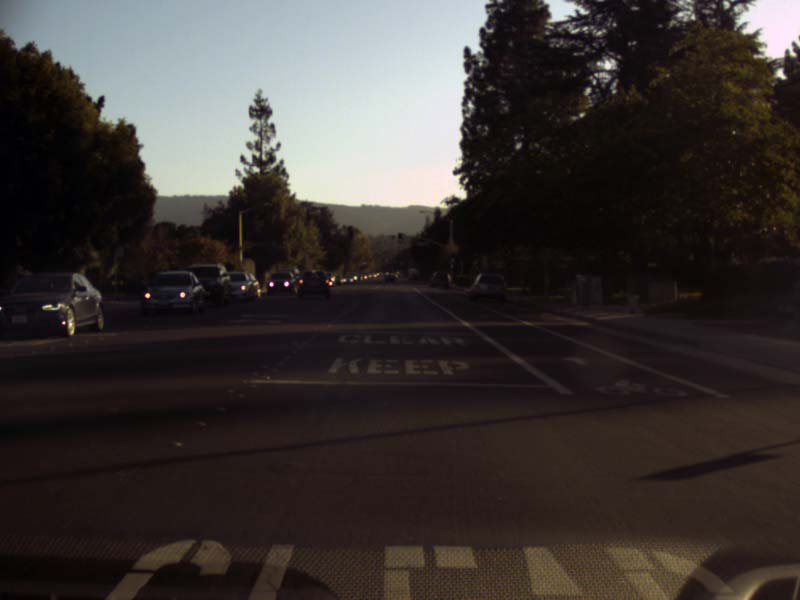Green: (397, 233, 402, 243), (450, 253, 455, 262)
Red: (393, 259, 397, 264)
